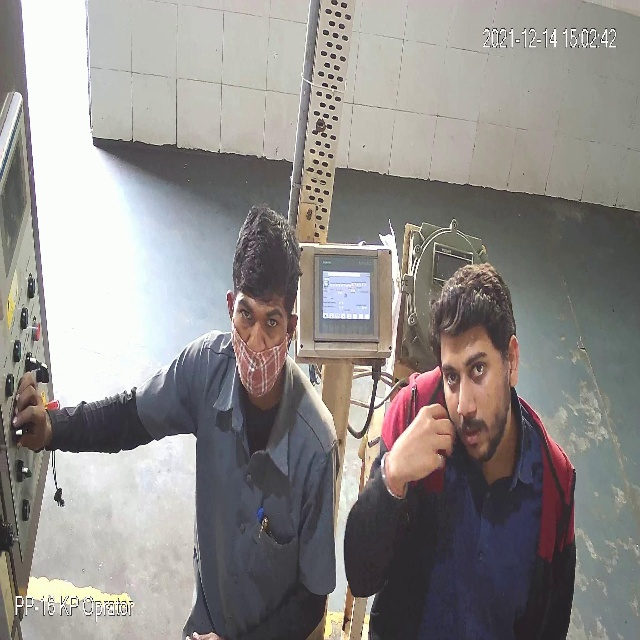Sin_gafas: (440, 346, 498, 388), (236, 301, 289, 339)
Sin_mascara: (442, 392, 507, 462)
